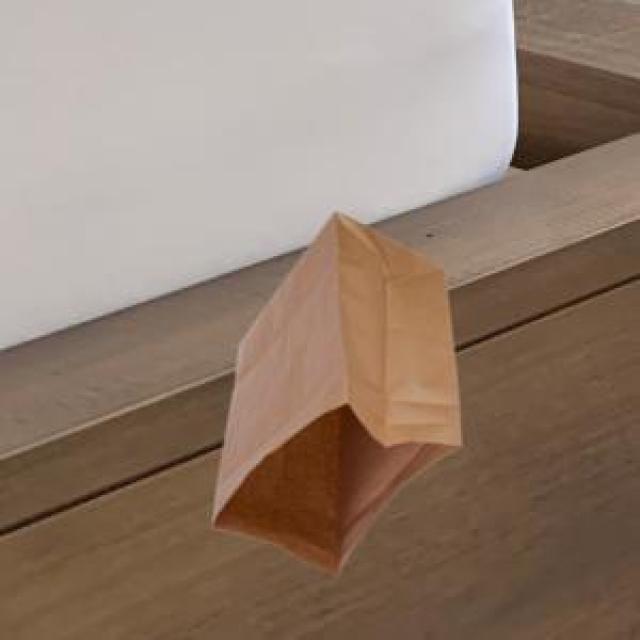paper: (209, 209, 457, 572)
